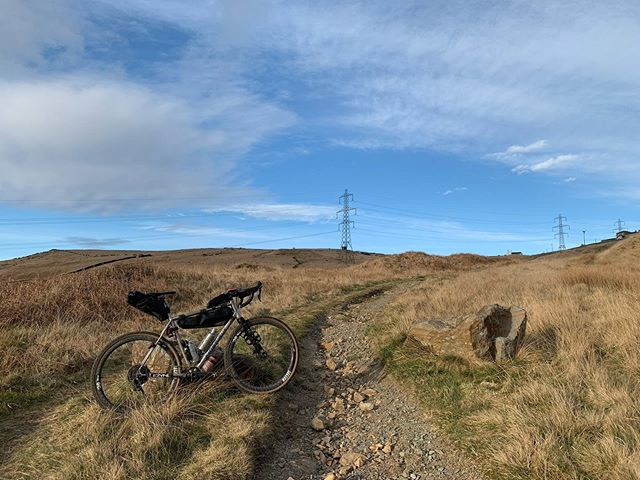bicicle: (92, 285, 306, 408)
grass: (1, 249, 324, 480), (449, 247, 640, 480)
sky: (1, 1, 637, 233)
